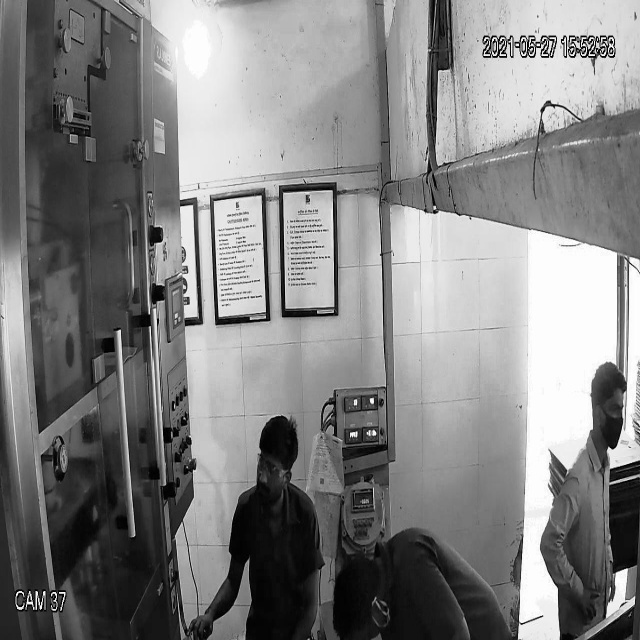Gafas: (256, 454, 290, 482)
Sin_gafas: (598, 400, 626, 419)
